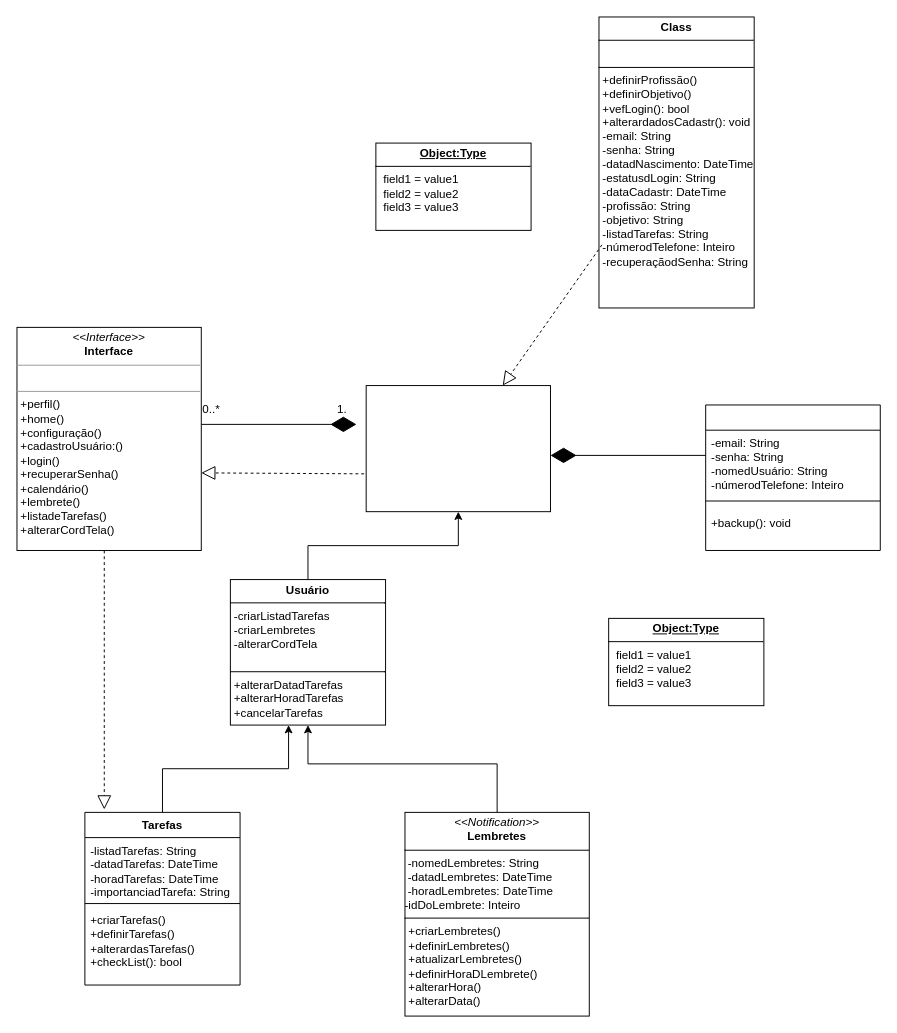
Some shapes in this 897 by 1033 pixel diagram are drawn without their labels. Here are the shapes that lost their labels. From the top down, the box of each, then its label:
(365, 385, 550, 512): Cliente -criarConta: String +cadastrarConta()
(705, 404, 880, 550): Dados
